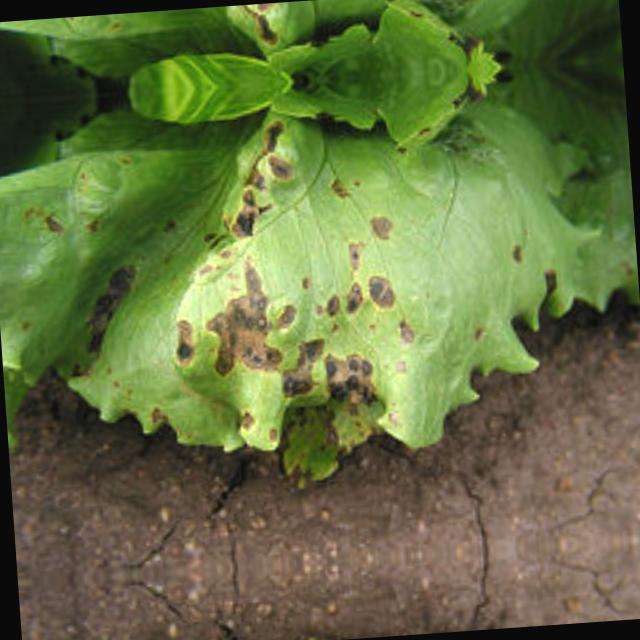Lettuce - Anthracnose: (0, 60, 610, 467), (0, 0, 584, 102)
